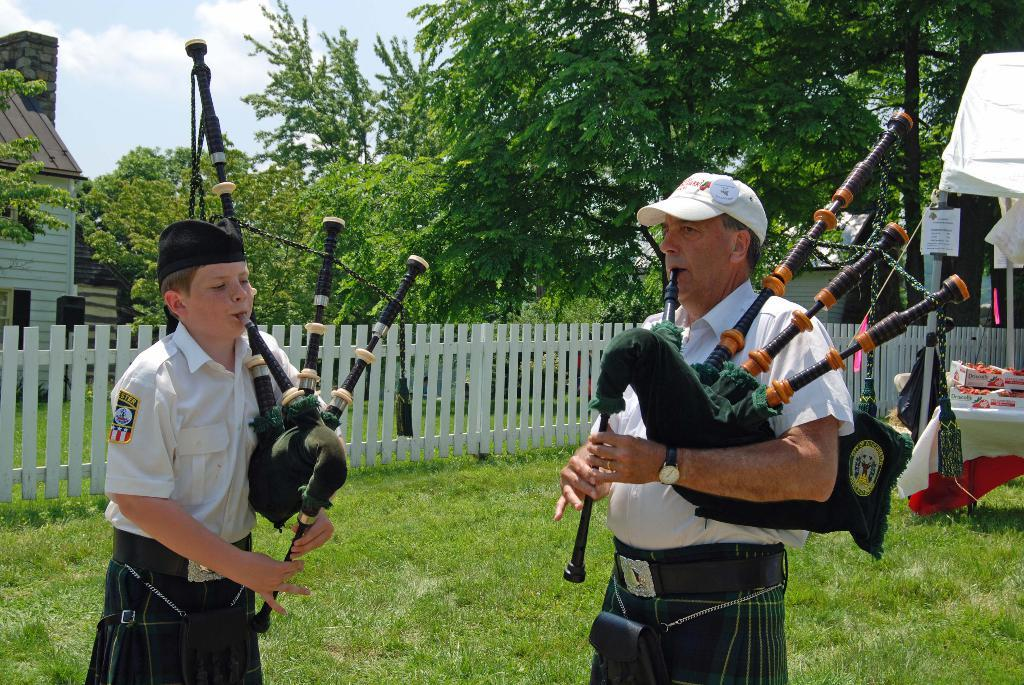Hat: (634, 171, 770, 246)
